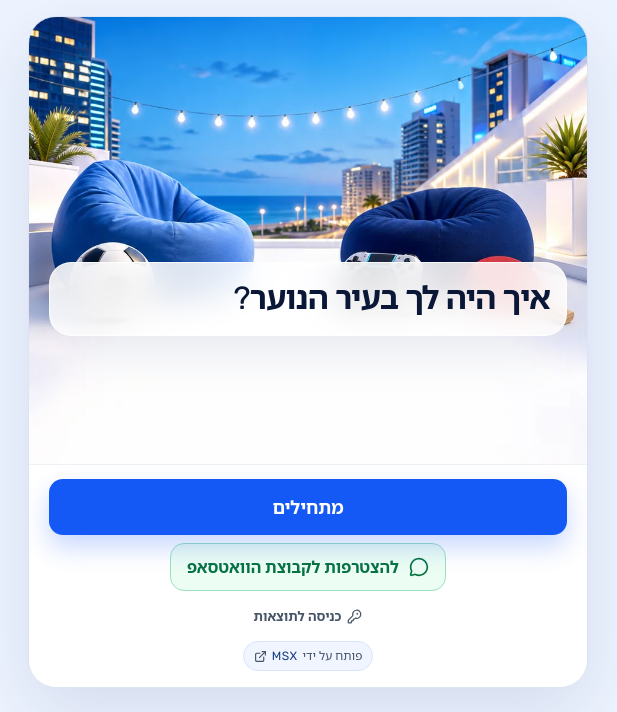
Scenario: anonymous youth feedback flow › shares only the public questionnaire URL from the header
What coordinates should you click on to do the following:
click the button "מתחילים"
I would click on:
 (308, 507)
Its box is [49,479,567,535].
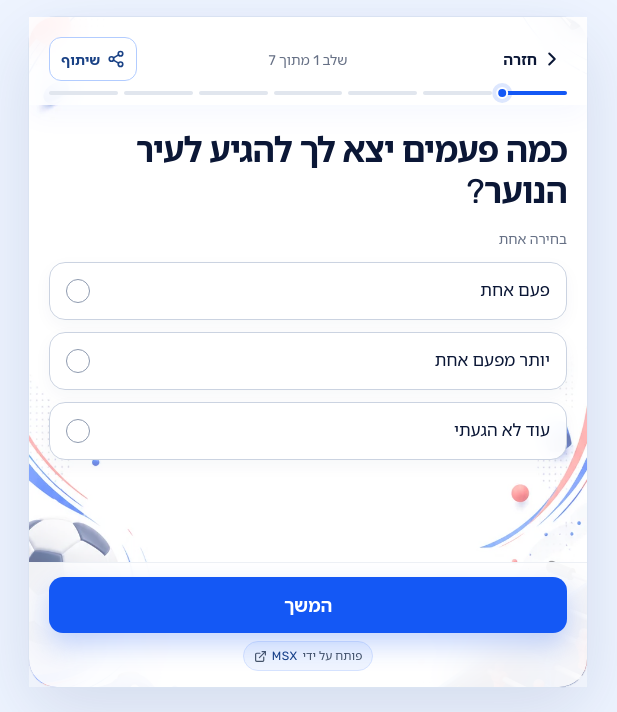
What coordinates should you click on to do the following:
click the button with aria-label "שיתוף השאלון"
I would click on:
 (93, 59)
Its box is [49,37,137,81].
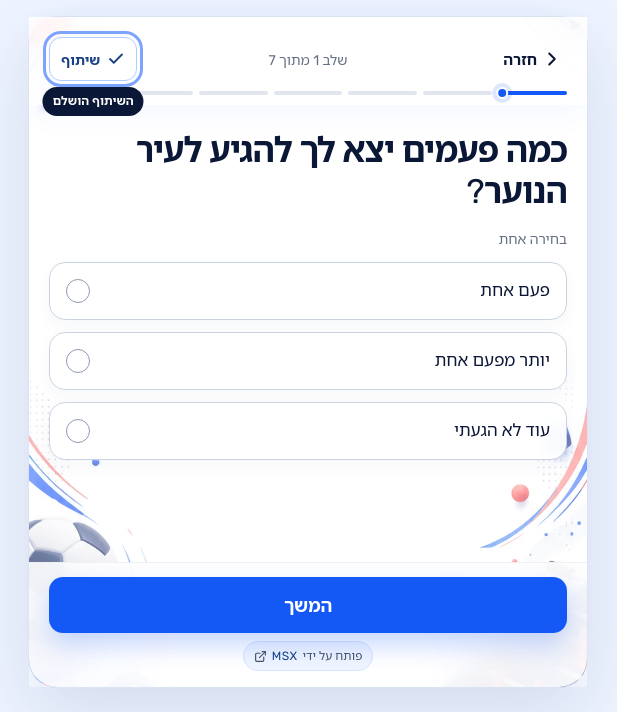
Expected: the text "השיתוף הושלם" is shown, [43,87,144,116]
